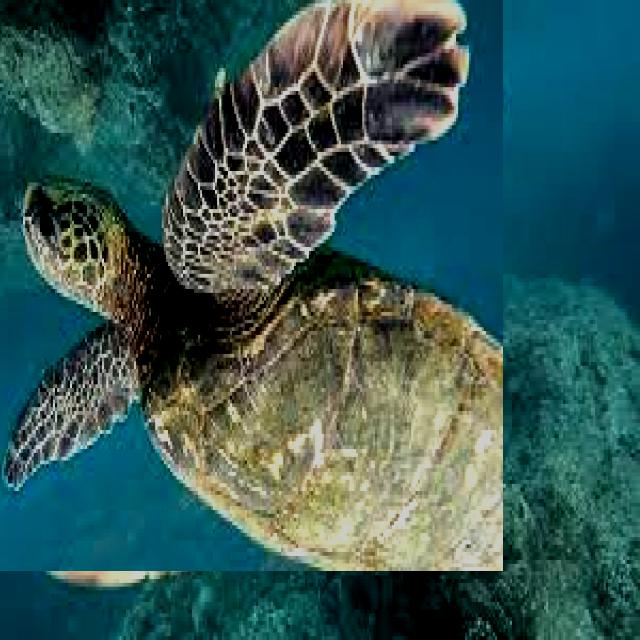Sea turtle: (0, 0, 503, 571)
